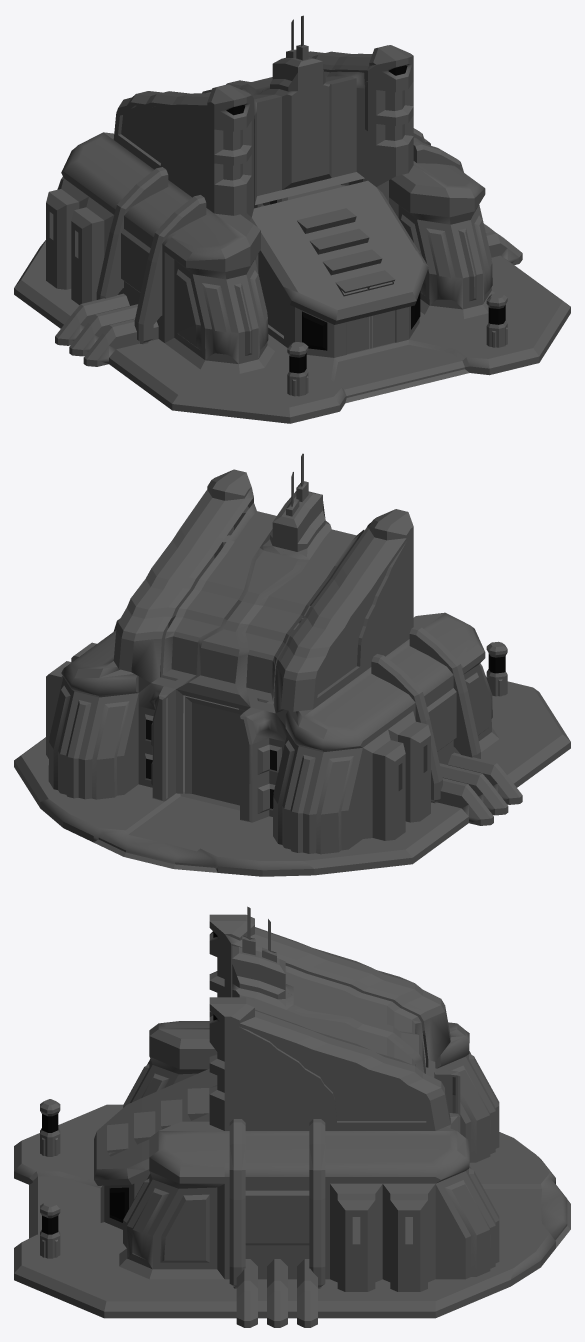
3 views of the same model, one above another, from view 1: azimuth 30°, elevation 25°; view 2: azimuth 150°, elevation 25°; view 3: azimuth 270°, elevation 25° (orthographic). The views are drawn at different scales.
Visible parts, largest first — view 1: InformationCenter.001; view 2: InformationCenter.001; view 3: InformationCenter.001.
Part boxes in pixels (x1,y1,x2,y2): InformationCenter.001: (14,15,570,423); InformationCenter.001: (14,453,570,876); InformationCenter.001: (14,906,570,1327).
Size of the model in its own units: 51.67 by 54.63 by 34.01.
